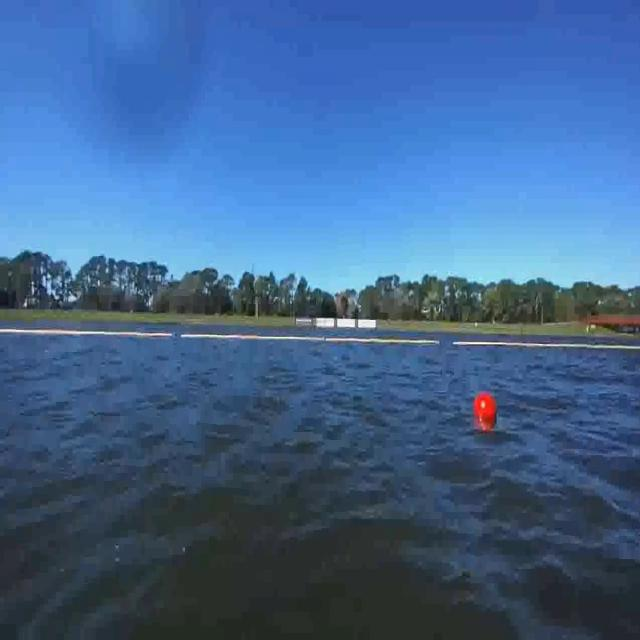red-buoy: (476, 395, 497, 421)
